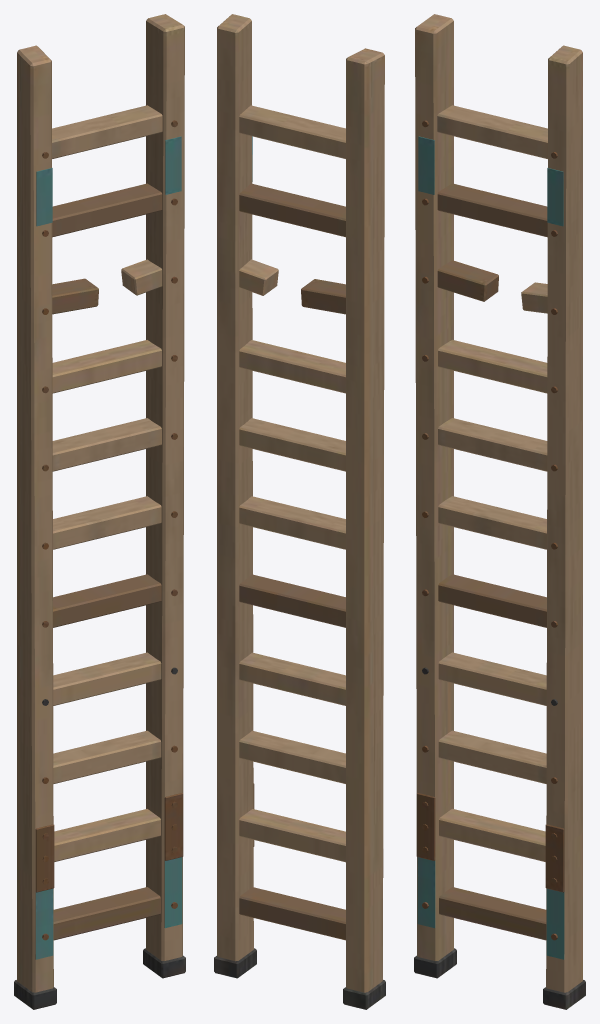
File: CS09_long_ladder.glb
3 views of the same model, side by side, from view 1: azimuth 30°, elevation 25°; view 2: azimuth 150°, elevation 25°; view 3: azimuth 330°, elevation 25° (orthographic).
Visible parts, largest first — view 1: Left wooden stile; view 2: Left wooden stile; view 3: Left wooden stile.
Boxes of the visible parts, x1=… form: Left wooden stile: x1=14, y1=14, x2=185, y2=1009; Left wooden stile: x1=214, y1=14, x2=385, y2=1009; Left wooden stile: x1=414, y1=14, x2=585, y2=1009.
Size of the model in its own units: 0.683 by 4 by 0.157.
Materials: 6 (6 with a texture image).
